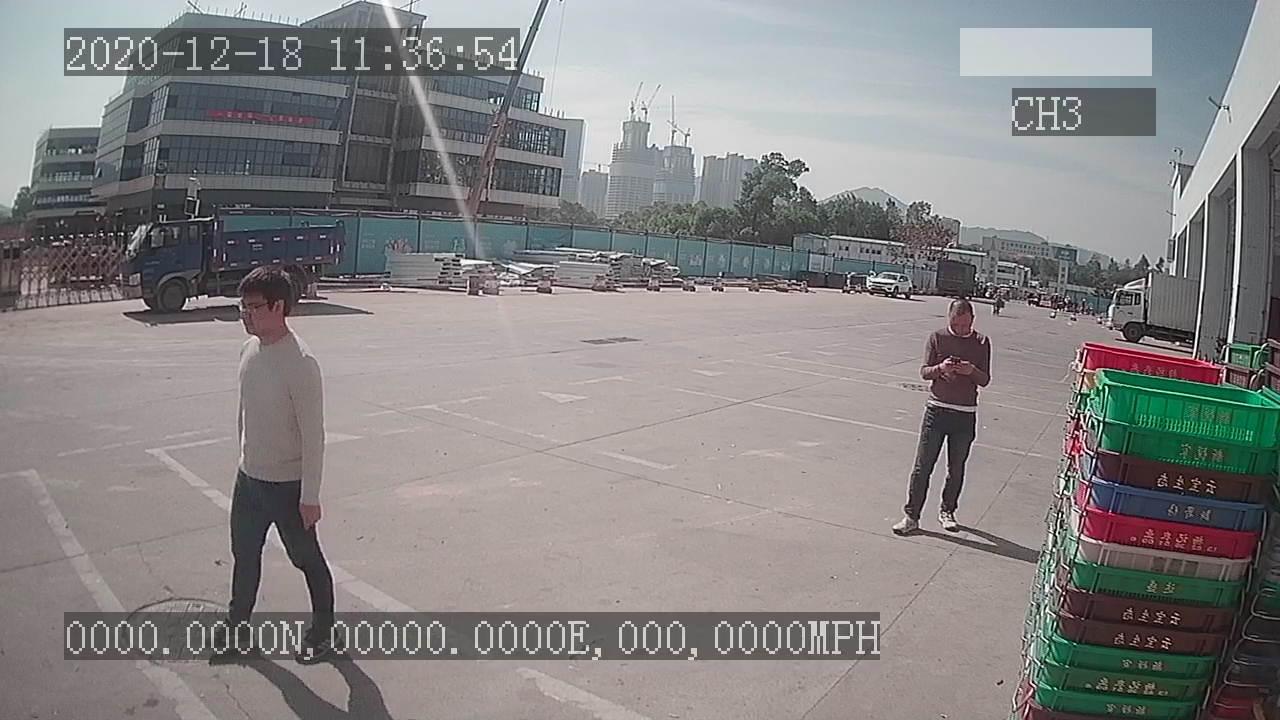person: (889, 299, 994, 543)
